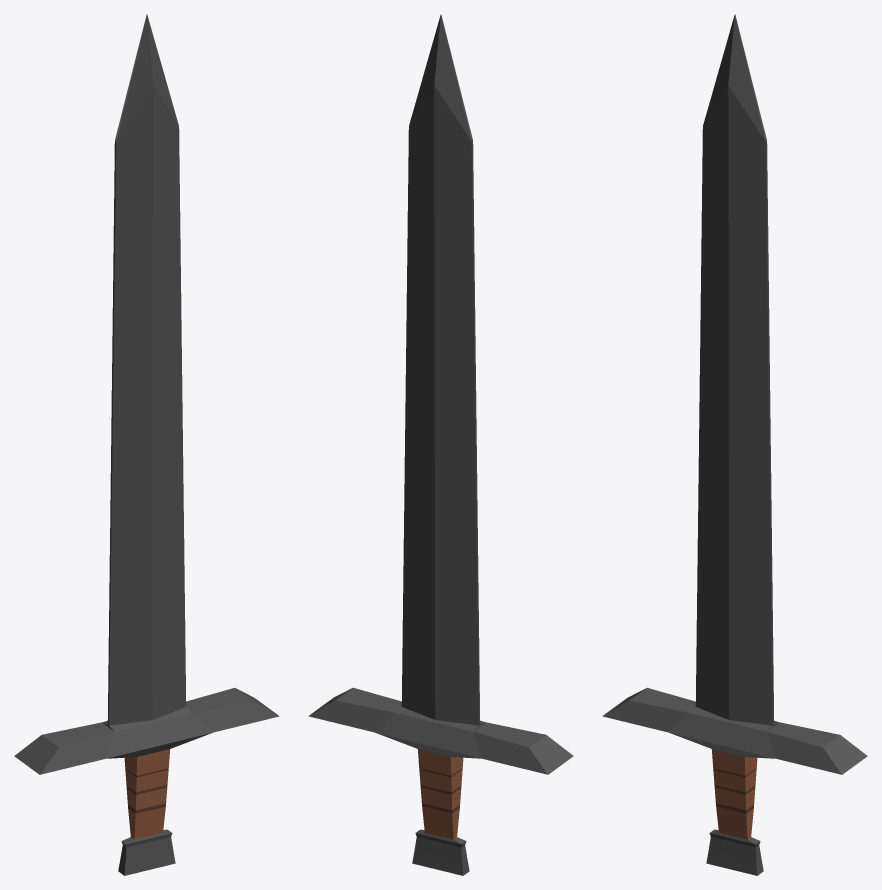
File: Sword.fbx
3 renders of one model, left to right at view 1: azimuth 30°, elevation 25°; view 2: azimuth 150°, elevation 25°; view 3: azimuth 330°, elevation 25°, orthographic.
Visible parts, largest first — view 1: Sword; view 2: Sword; view 3: Sword.
Part boxes in pixels (x1,y1,x2,y2): Sword: [14, 14, 279, 875]; Sword: [308, 14, 573, 875]; Sword: [602, 14, 867, 875].
Bounding box in the file's own units: 0.9945 × 3.38 × 0.184.
